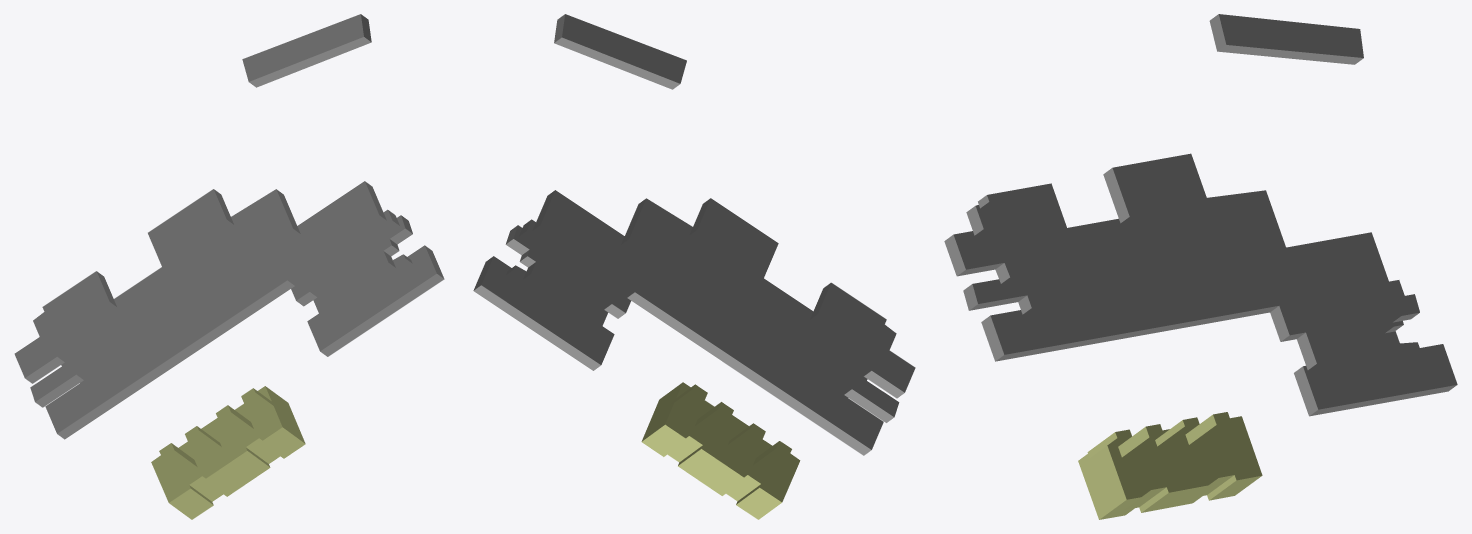
3 renders of one model, left to right at view 1: azimuth 30°, elevation 25°; view 2: azimuth 150°, elevation 25°; view 3: azimuth 330°, elevation 25°, orthographic. The views are drawn at different scales.
Visible parts, largest first — view 1: 0_3_1_3_3_0_2_3; view 2: 0_3_1_3_3_0_2_3; view 3: 0_3_1_3_3_0_2_3.
Boxes of the visible parts, bbox=[...] form: 0_3_1_3_3_0_2_3: bbox=[14, 14, 444, 519]; 0_3_1_3_3_0_2_3: bbox=[473, 14, 915, 519]; 0_3_1_3_3_0_2_3: bbox=[944, 14, 1457, 519].
Bounding box in the file's own units: 94.9 × 94.55 × 10.8.
